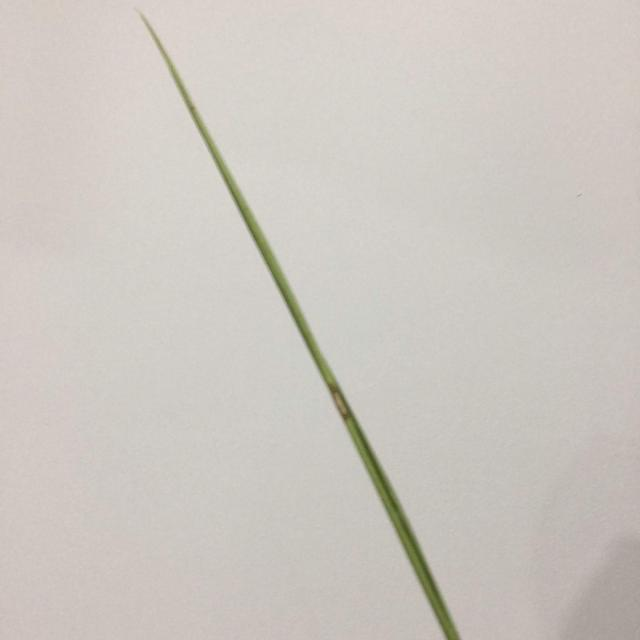Blast: (331, 389, 359, 420)
